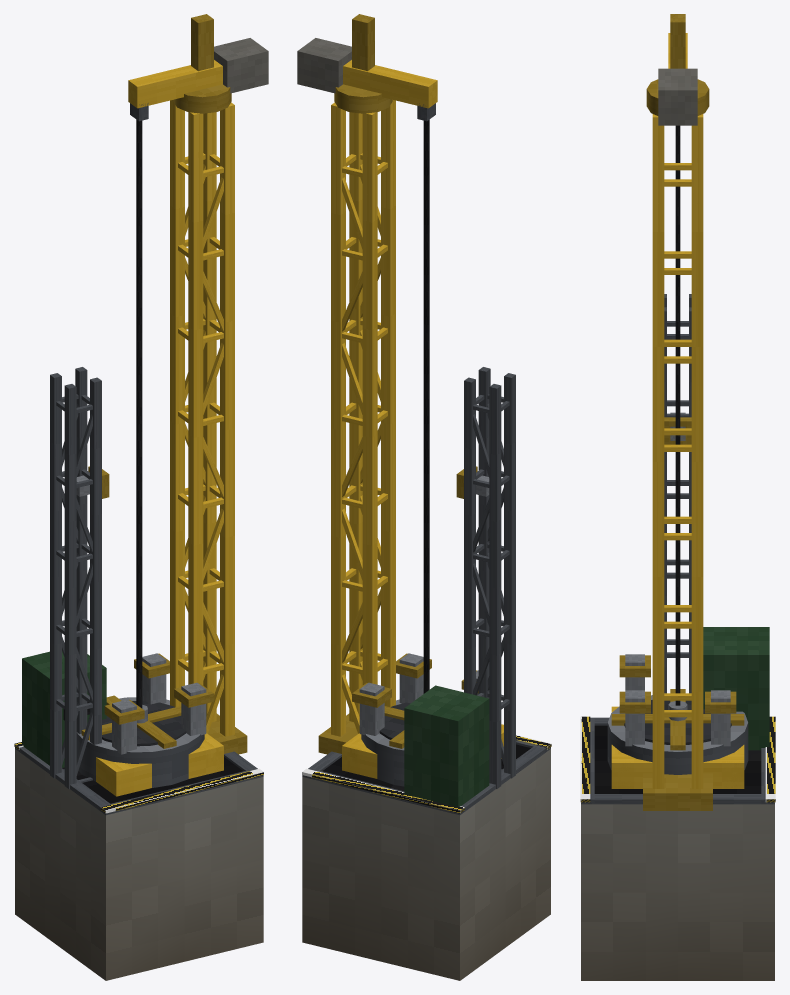
The model's file is launch_pad_1.glb.
3 renders of one model, left to right at view 1: azimuth 30°, elevation 25°; view 2: azimuth 150°, elevation 25°; view 3: azimuth 270°, elevation 25°, orthographic. The views are drawn at different scales.
Visible parts, largest first — view 1: root, umb, crane_turret, grip, clamp_0, clamp_1, clamp_3; view 2: root, umb, crane_turret, grip, clamp_3, clamp_0; view 3: root, crane_turret, grip, umb, clamp_0, clamp_3, clamp_1, umb_arm.
Part boxes in pixels (box(x1,y1,x2,y2)): root: box(14, 100, 263, 980); umb: box(50, 367, 101, 788); crane_turret: box(128, 14, 268, 121); grip: box(81, 695, 223, 796); clamp_0: box(174, 682, 213, 735); clamp_1: box(104, 699, 144, 754); clamp_3: box(134, 653, 169, 704); root: box(302, 100, 551, 980); umb: box(464, 367, 515, 788); crane_turret: box(297, 14, 437, 121); grip: box(342, 706, 503, 778); clamp_3: box(352, 682, 391, 735); clamp_0: box(396, 653, 431, 703); root: box(580, 114, 775, 980); crane_turret: box(646, 14, 709, 125); grip: box(611, 689, 744, 788); umb: box(664, 294, 691, 693); clamp_0: box(619, 690, 650, 746); clamp_3: box(705, 690, 736, 746); clamp_1: box(619, 654, 650, 690); umb_arm: box(664, 412, 691, 444).
Size of the model in its own units: 1.26 by 5.4 by 1.
1 material, 1 textured.
